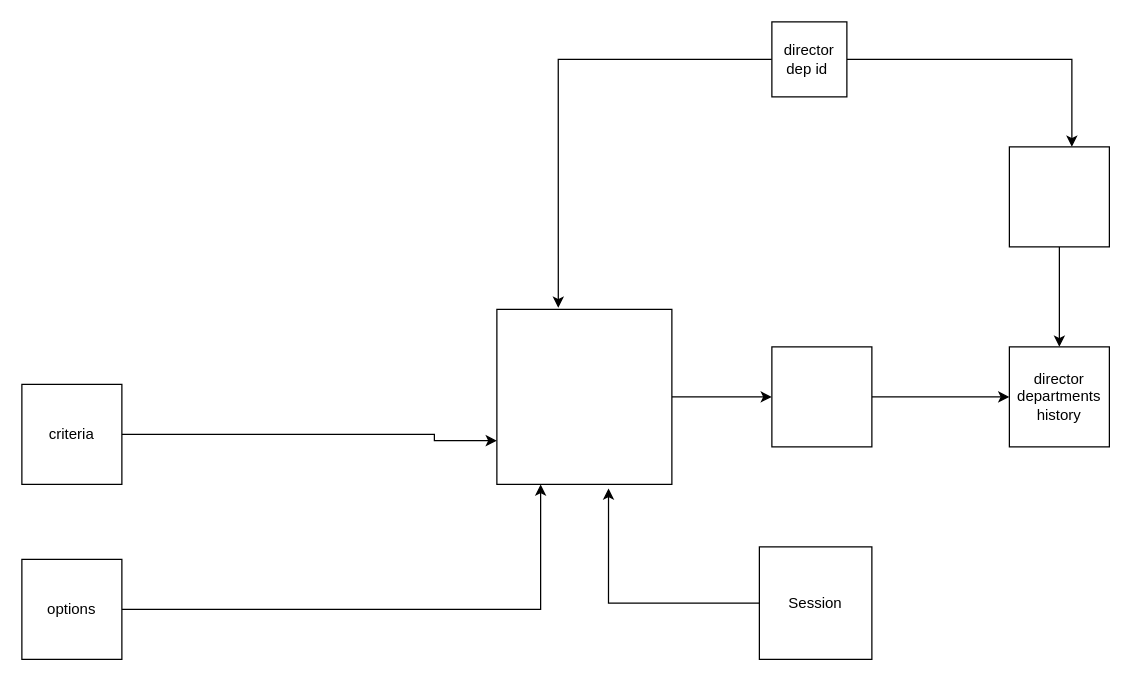
This 1131x681 diagram has some shape labels left out. The shapes that lost their labels are listed below. From the top down, each one's centre as x and y in pixels, then its label:
(1058,196): direcdeppivot
(584,396): EmployeeCriterionPoints userMono point year quarter optionİd criteriaİd note
(821,396): empdeppivot
